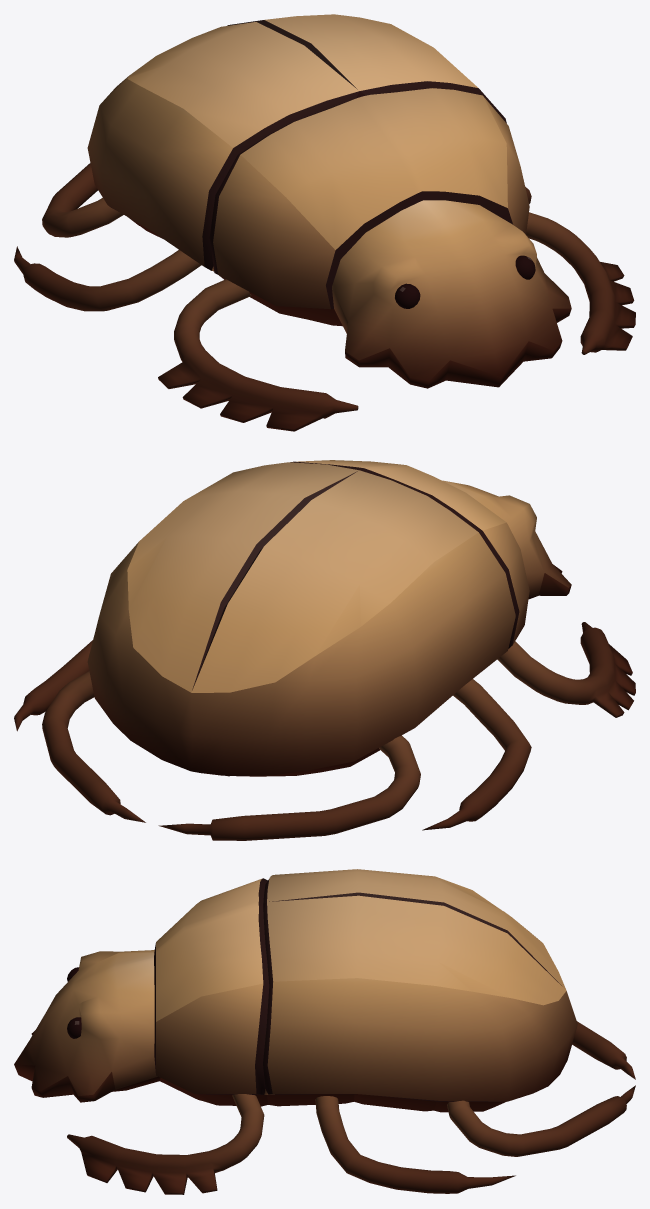
The model's file is Scarab.fbx.
3 renders of one model, top to bottom at view 1: azimuth 30°, elevation 25°; view 2: azimuth 150°, elevation 25°; view 3: azimuth 270°, elevation 25°, orthographic. The views are drawn at different scales.
Visible parts, largest first — view 1: Scarab; view 2: Scarab; view 3: Scarab.
Part boxes in pixels (box(x1,y1,x2,y2)): Scarab: box(14, 14, 635, 431); Scarab: box(14, 460, 635, 840); Scarab: box(14, 869, 635, 1194).
Bounding box in the file's own units: 3.39 × 1.66 × 4.46.
